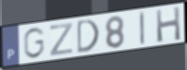8: (104, 15, 126, 50)
D: (76, 17, 101, 56)
G: (22, 26, 47, 60)
H: (154, 5, 183, 44)
I: (138, 10, 146, 47)
Z: (49, 21, 74, 57)
